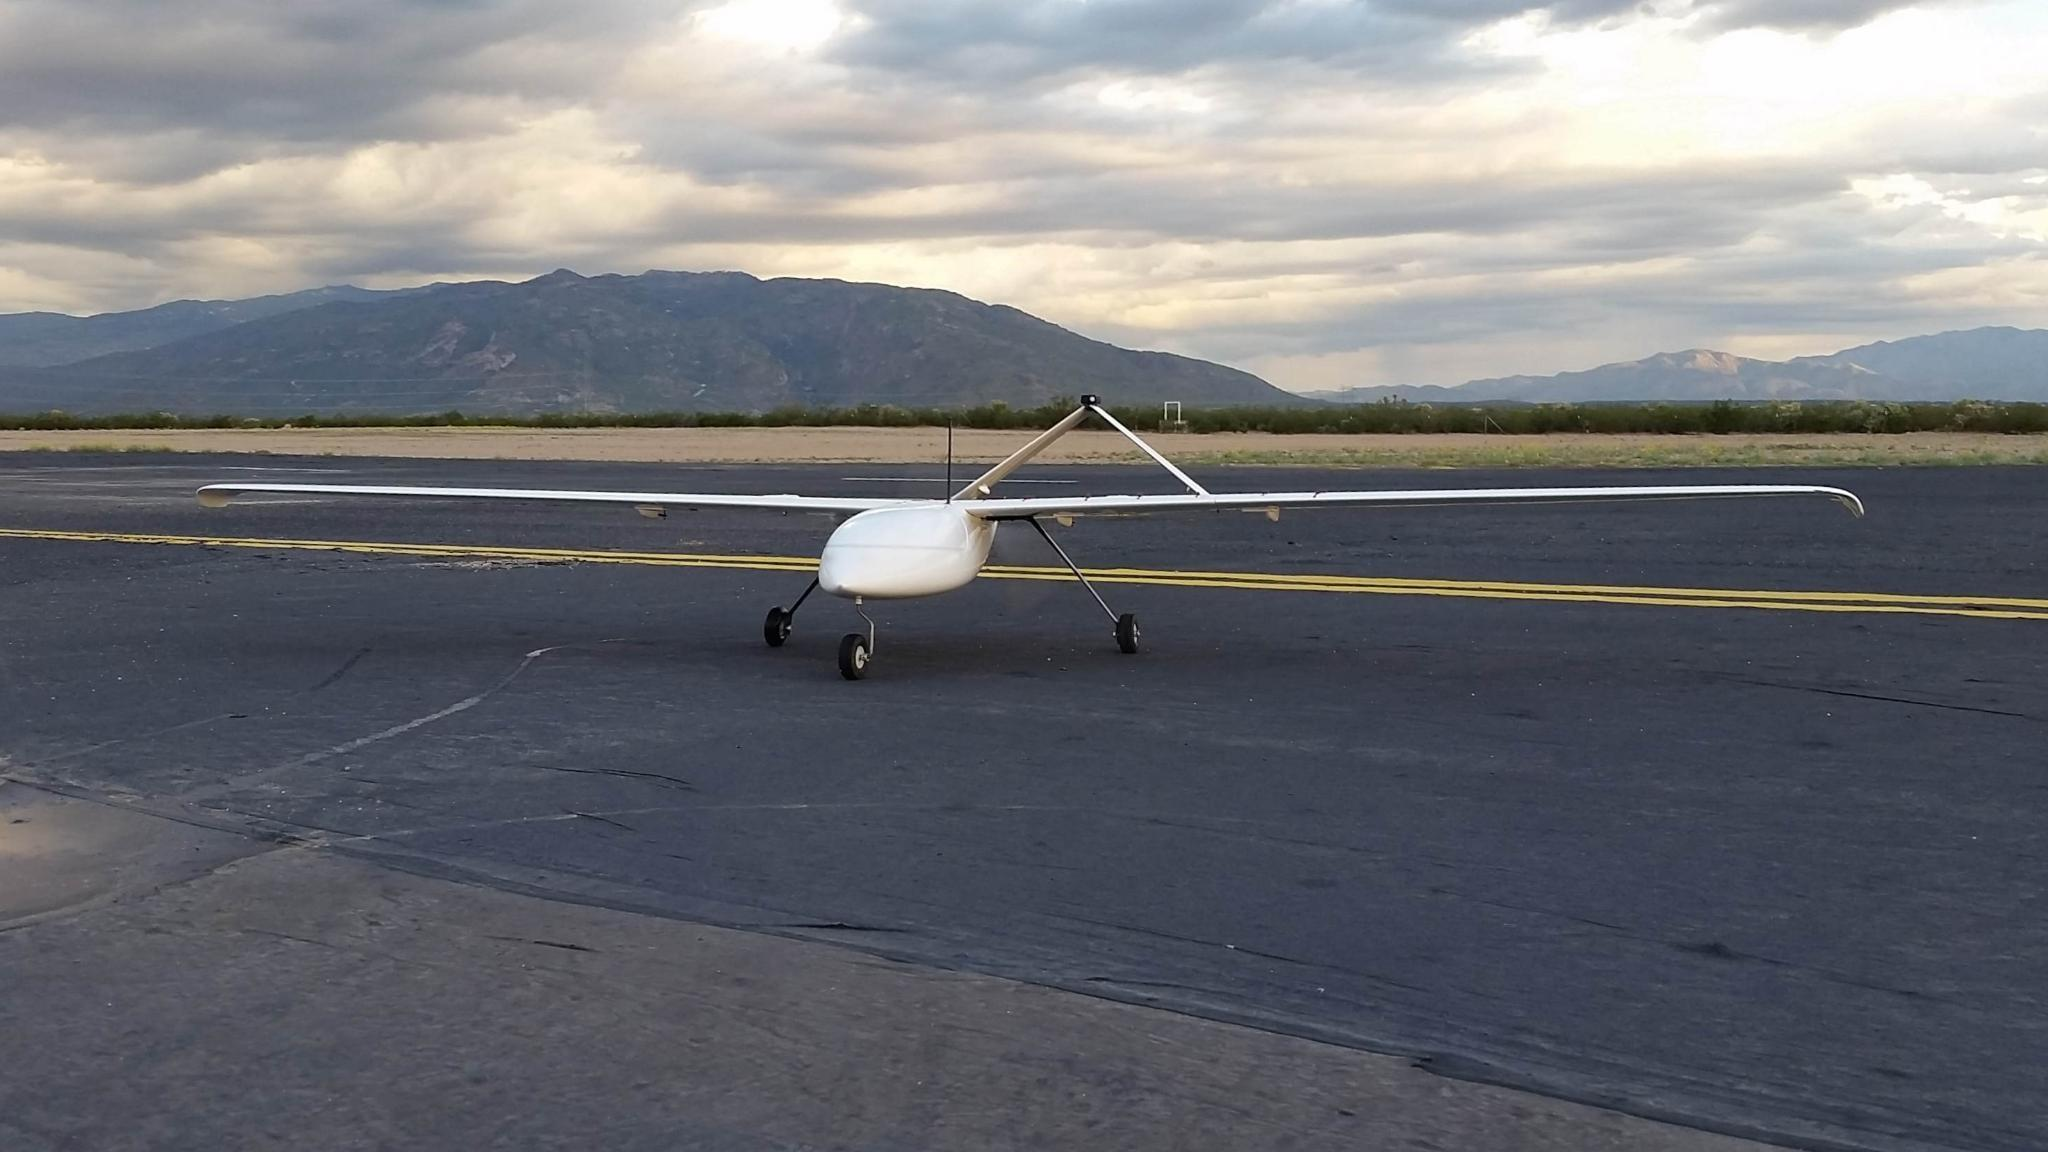Airplane: (181, 352, 1900, 723)
